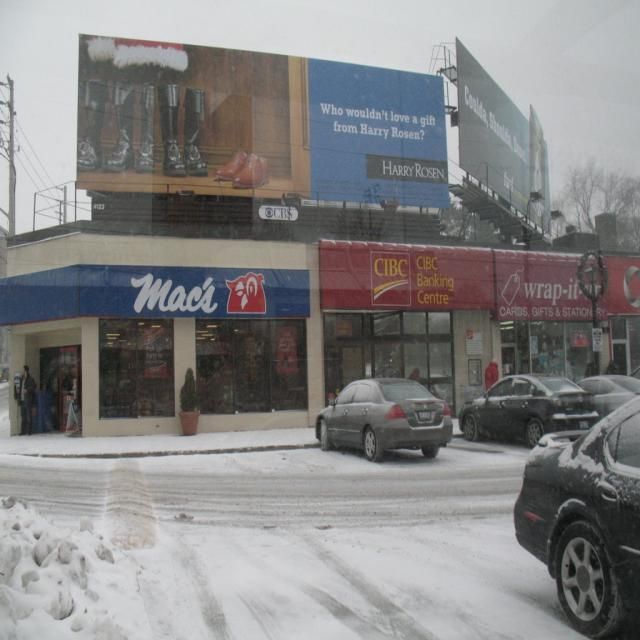car: (316, 379, 457, 469)
